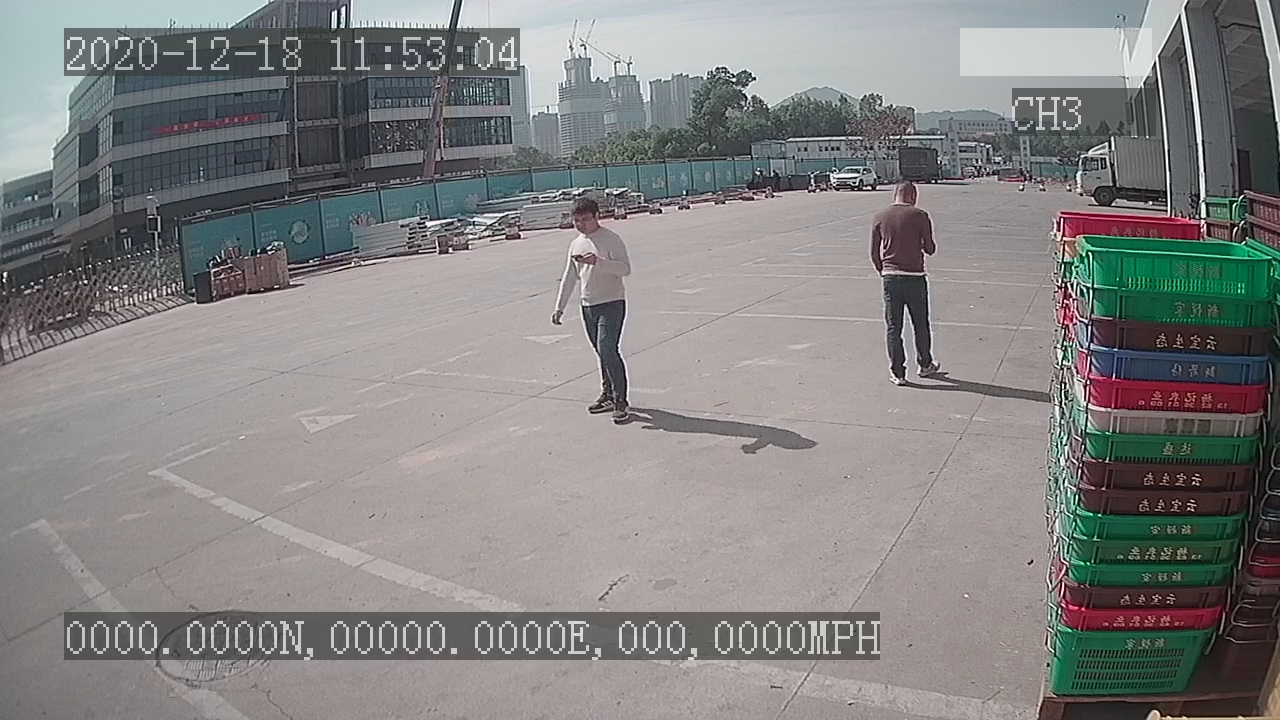person: (543, 194, 638, 426), (863, 176, 947, 395)
